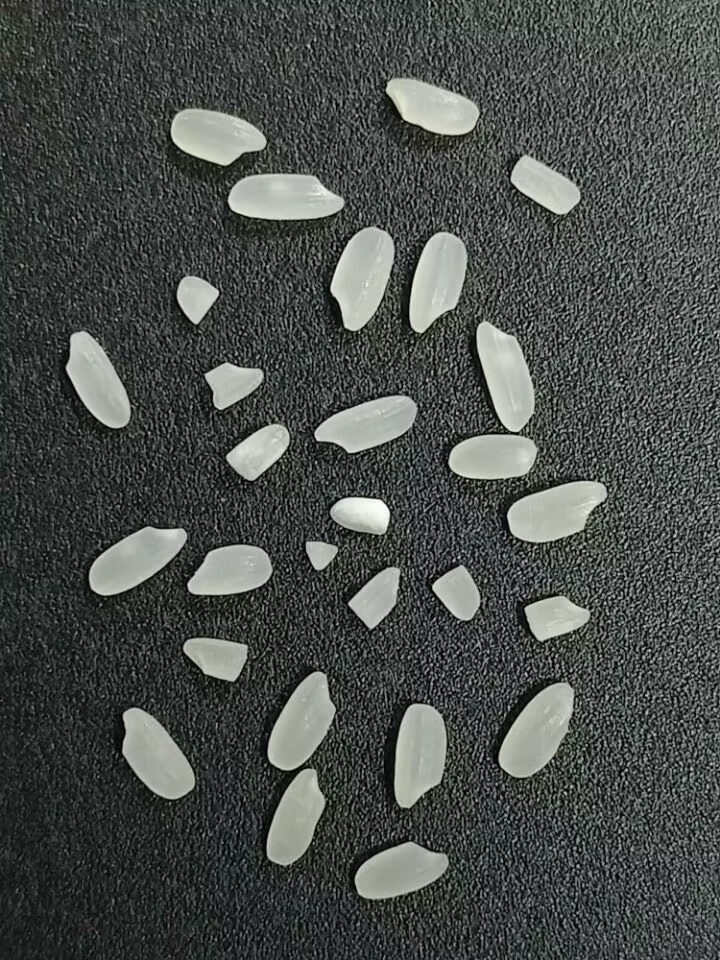broken: (507, 145, 584, 224), (219, 420, 290, 484), (343, 563, 406, 632), (517, 593, 598, 645), (203, 354, 270, 415), (431, 559, 488, 625), (178, 635, 249, 683), (326, 493, 397, 538), (172, 273, 224, 329), (301, 535, 343, 572)
rice: (85, 514, 189, 602), (113, 702, 201, 805), (321, 220, 396, 338), (400, 228, 472, 339), (471, 317, 541, 431), (496, 680, 576, 779), (266, 666, 340, 773), (502, 474, 615, 543), (59, 329, 135, 430), (262, 765, 331, 872), (308, 391, 425, 454), (382, 73, 485, 144), (221, 167, 350, 223), (389, 695, 452, 809), (162, 101, 269, 167), (350, 837, 454, 902), (182, 539, 281, 601), (448, 433, 538, 480)
